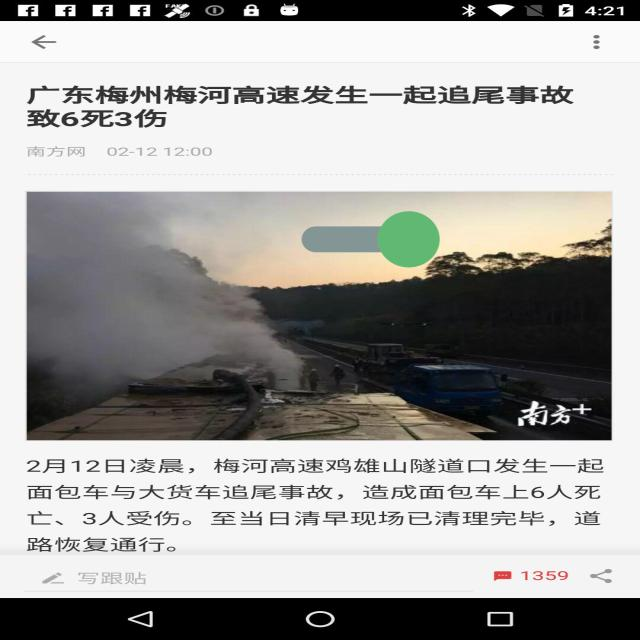social proof: (302, 177, 439, 302)
